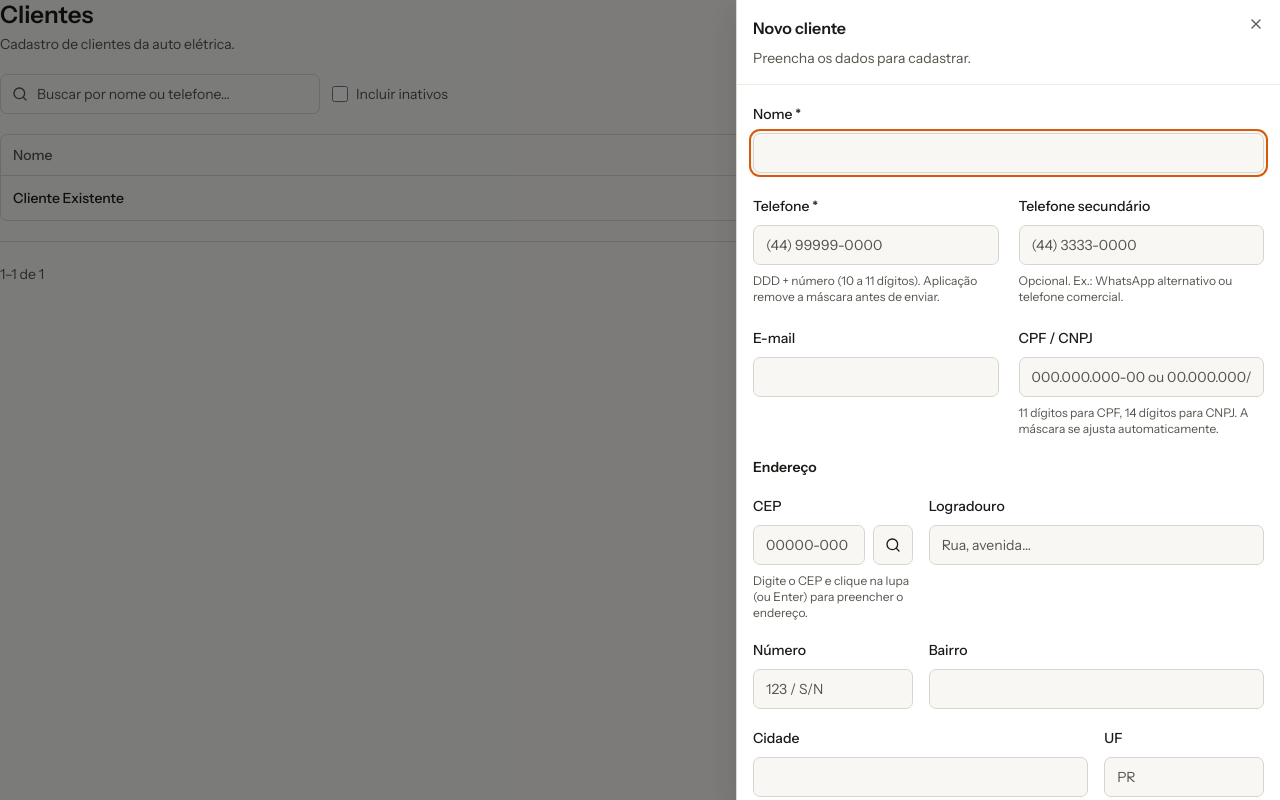
Test: ClienteFormDrawer › CEP inexistente mostra mensagem e não preenche o endereço
The image size is (1280, 800).
Expected: the field labelled "Nome *" is shown, top-left (753, 133), bottom-right (1264, 173)
In the field labelled "CEP": (809,545) top-left (753, 525), bottom-right (865, 565), type "99999-999"
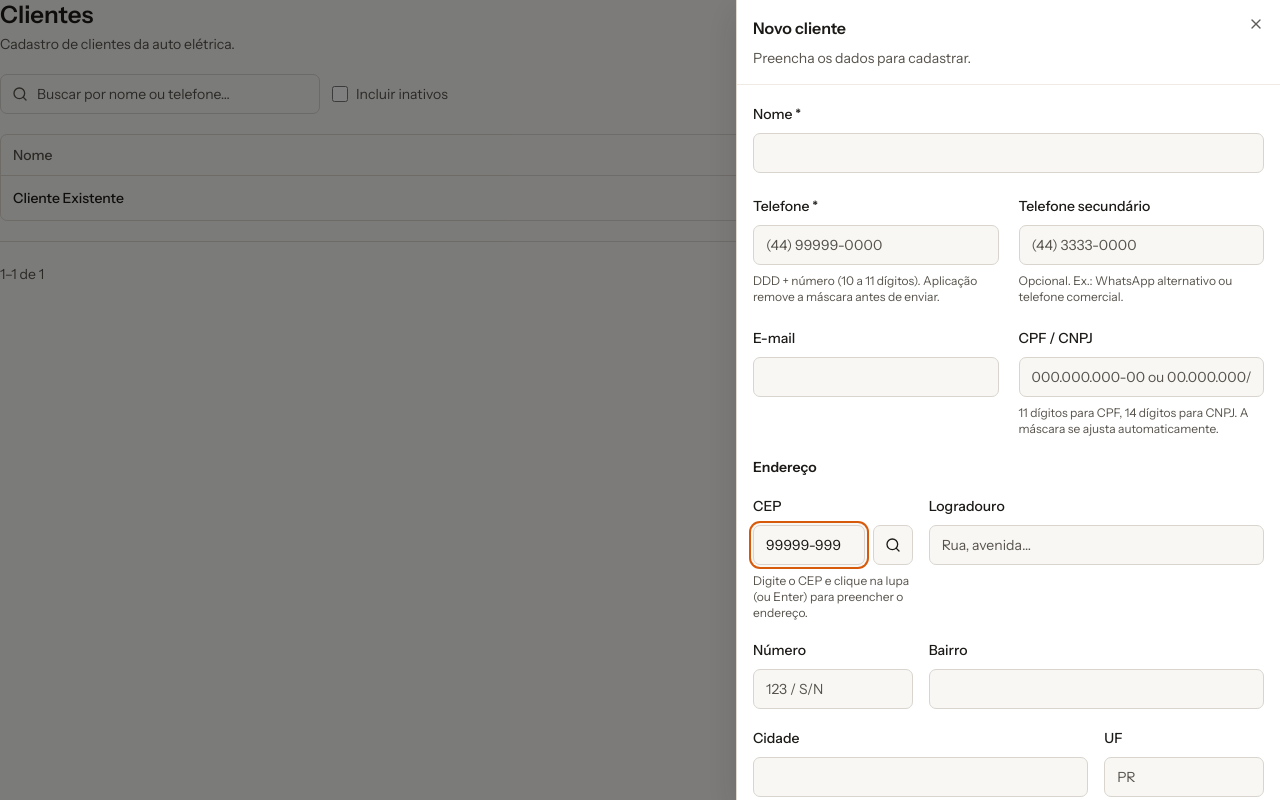
Click the button named "buscar endereço pelo cep": (893,545) top-left (873, 525), bottom-right (913, 565)
(page scrolled)
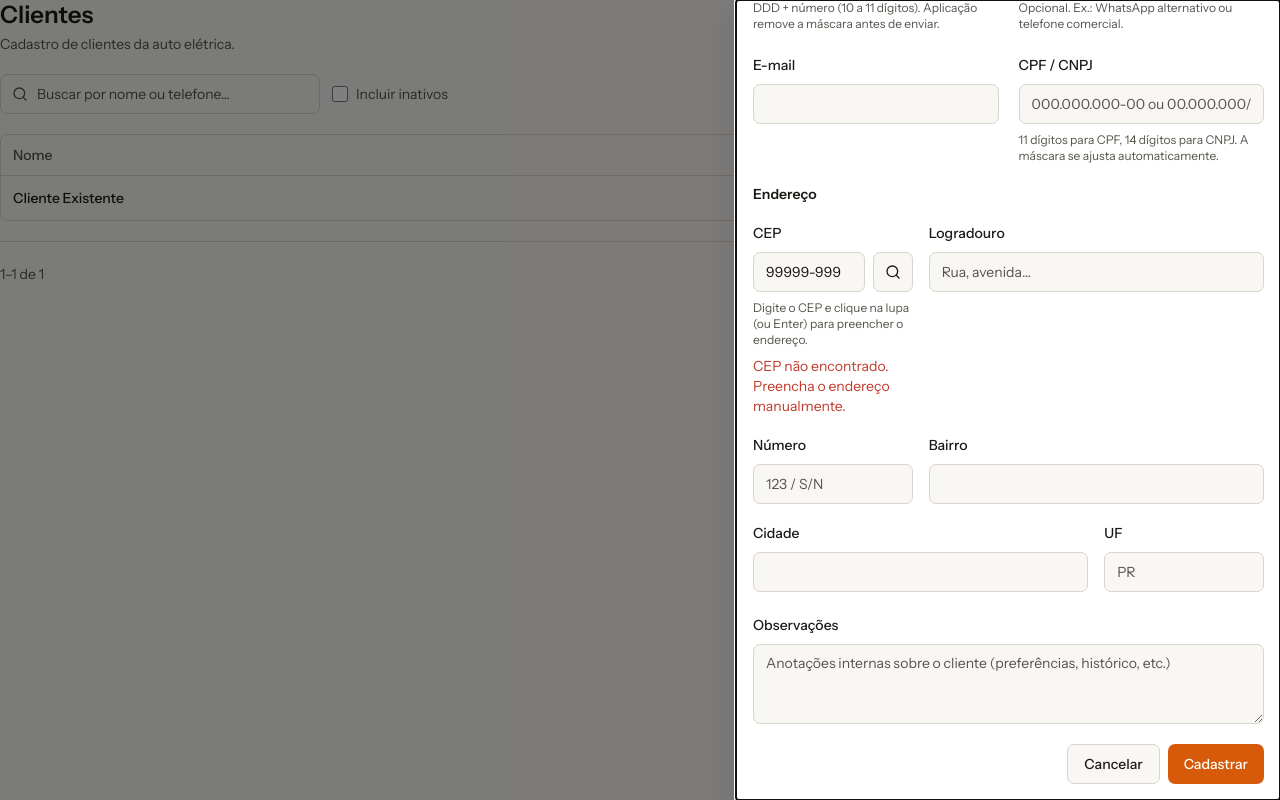
Expected: the field labelled "Logradouro" is empty, top-left (929, 252), bottom-right (1264, 292)
Expected: the text "CEP não encontrado. Preencha o endereço manualmente." is shown, top-left (753, 356), bottom-right (913, 416)
